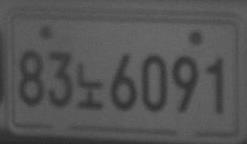0: (141, 54, 167, 111)
1: (204, 56, 234, 114)
3: (47, 51, 73, 107)
6: (110, 54, 136, 110)
8: (18, 48, 45, 107)
9: (171, 54, 198, 111)
노: (76, 63, 103, 110)
